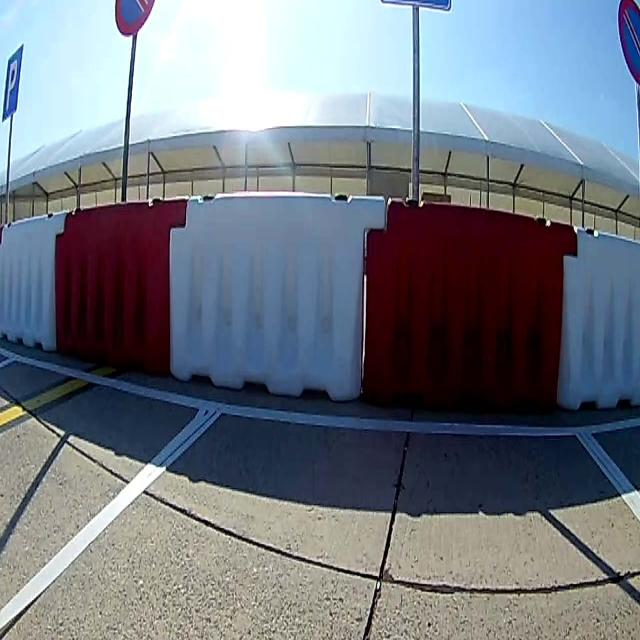park: (4, 48, 22, 113)
